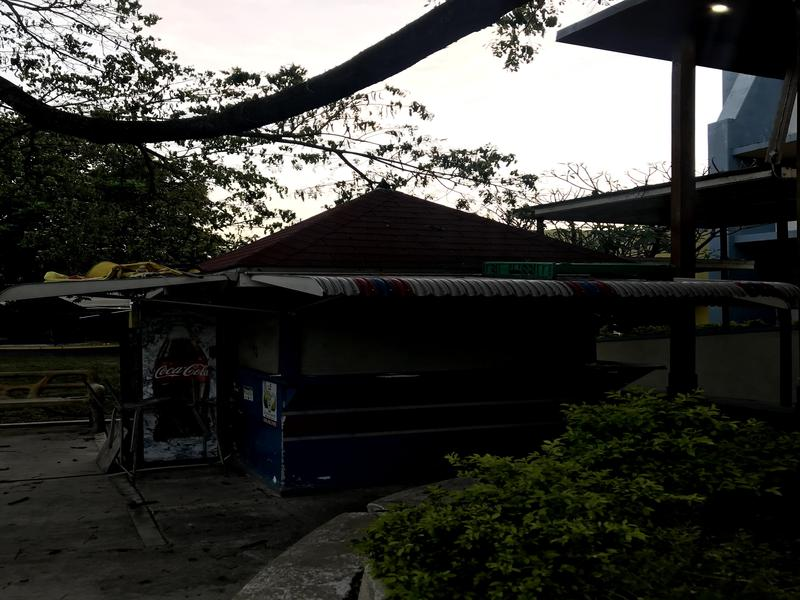18.0051667_-76.74944412_librarystall: (145, 174, 636, 508)
